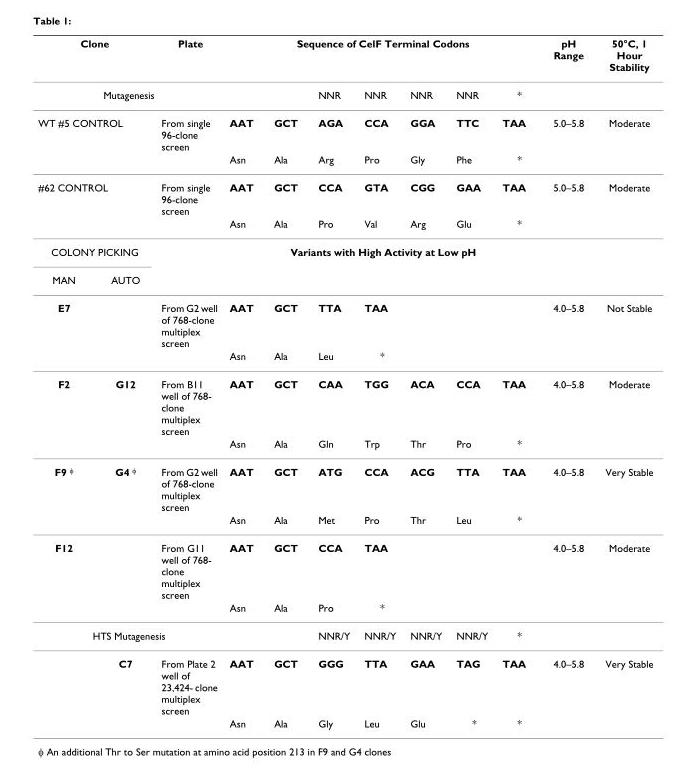table: (37, 36, 652, 728)
table column: (149, 36, 222, 728), (593, 36, 652, 728), (92, 36, 149, 728), (37, 36, 92, 728), (538, 36, 593, 728), (307, 36, 356, 728), (356, 36, 402, 728), (402, 36, 448, 728), (448, 36, 494, 728), (262, 36, 307, 728), (494, 36, 538, 728), (222, 36, 262, 728)
table column header: (37, 36, 652, 172)
table row: (37, 369, 652, 436), (37, 533, 652, 600), (37, 649, 652, 716), (37, 293, 652, 349), (37, 457, 652, 512), (37, 36, 652, 80), (37, 108, 652, 152), (37, 172, 652, 216), (37, 80, 652, 108), (37, 237, 652, 265), (37, 265, 652, 293), (37, 621, 652, 649), (37, 216, 652, 237), (37, 436, 652, 457), (37, 512, 652, 533), (37, 600, 652, 621), (37, 152, 652, 172), (37, 349, 652, 369), (37, 716, 652, 728)
table spanning cell: (222, 36, 538, 80), (222, 237, 538, 265), (593, 36, 652, 172), (538, 36, 593, 172), (37, 80, 222, 108), (37, 621, 222, 649), (37, 36, 149, 80), (37, 108, 149, 152), (37, 172, 149, 216), (37, 369, 92, 457), (37, 533, 92, 621), (149, 108, 222, 172), (307, 80, 356, 172), (356, 80, 402, 172), (402, 80, 448, 172), (448, 80, 494, 172), (37, 293, 92, 369), (37, 457, 92, 533), (262, 80, 307, 172), (494, 80, 538, 172), (222, 80, 262, 172), (37, 237, 149, 265)
